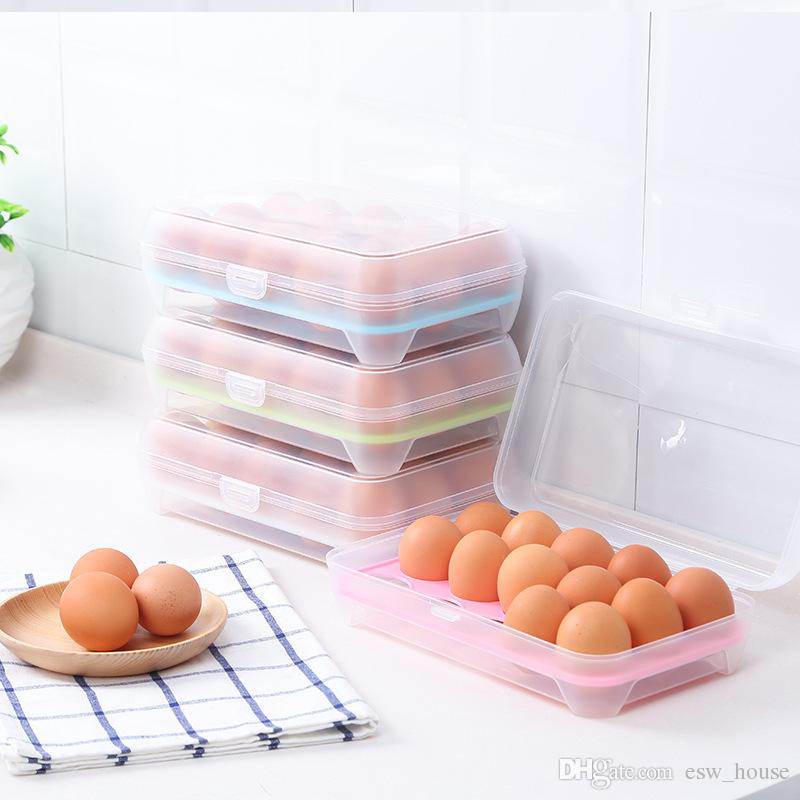egg: (397, 495, 743, 676), (51, 543, 202, 649)
